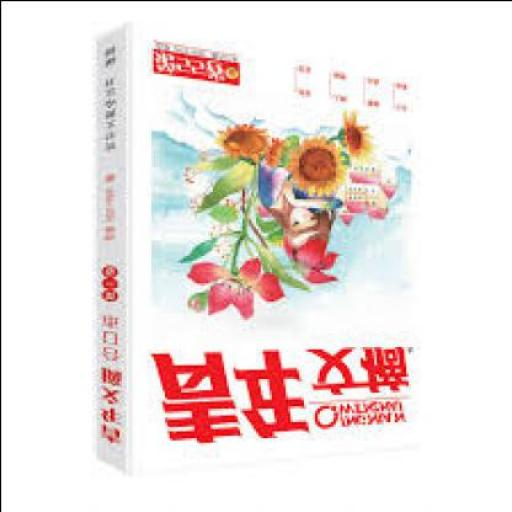paper: (91, 20, 414, 478)
